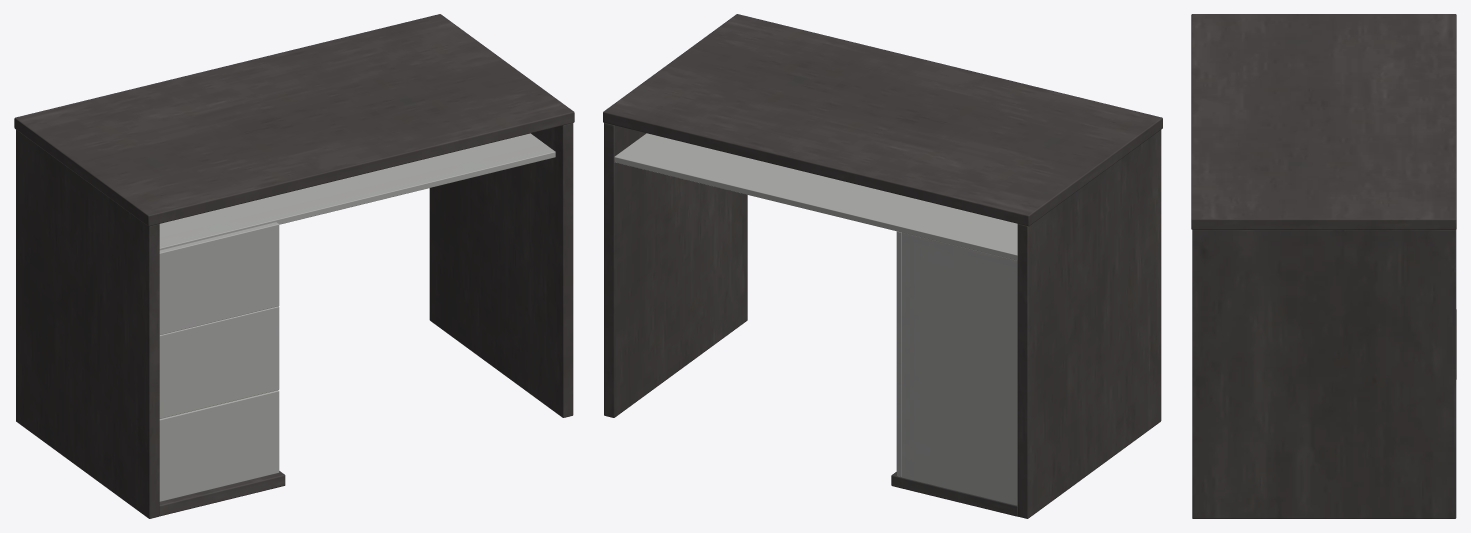
The model's file is abo-B084S6W1WV.glb.
3 renders of one model, left to right at view 1: azimuth 30°, elevation 25°; view 2: azimuth 150°, elevation 25°; view 3: azimuth 270°, elevation 25°, orthographic.
Bounding box in the file's own units: 1.1 × 0.75 × 0.6.
Materials: 1 (1 with a texture image).
